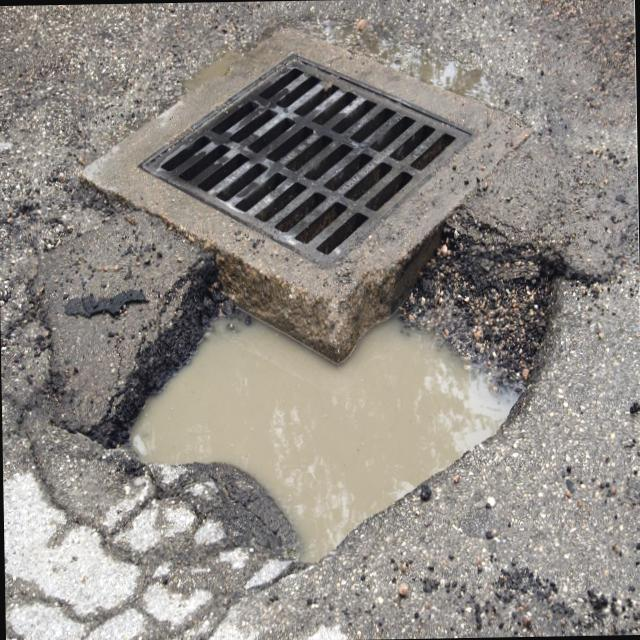bad-road: (79, 202, 568, 558)
